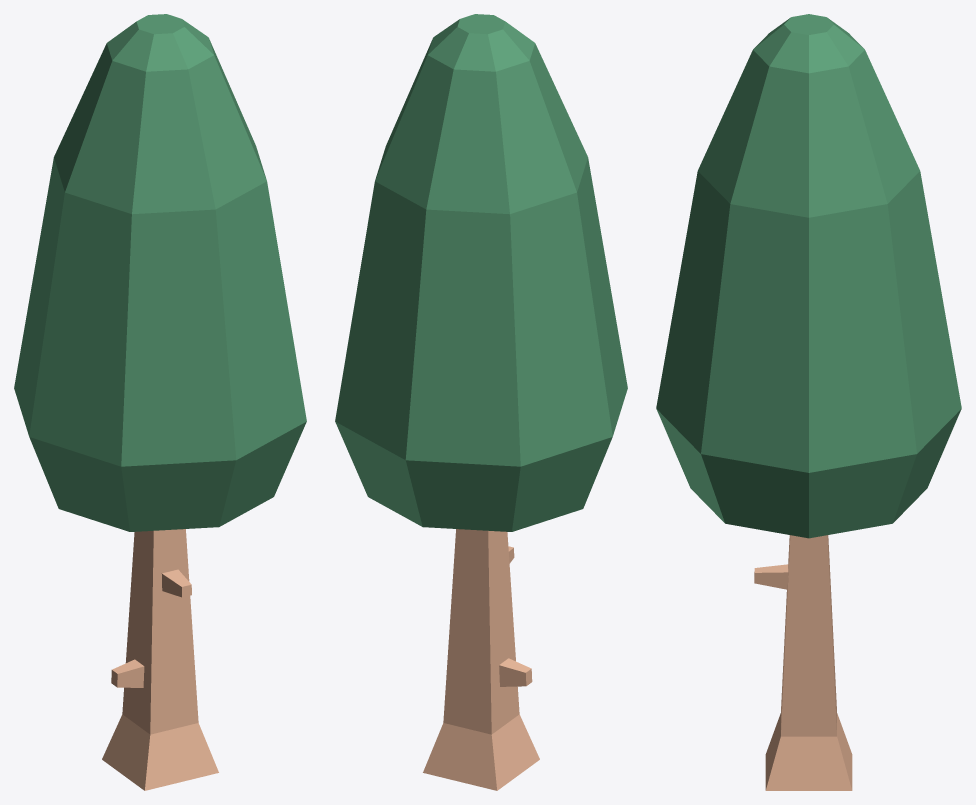
Rendered from thuja_1.glb.
3 renders of one model, left to right at view 1: azimuth 30°, elevation 25°; view 2: azimuth 150°, elevation 25°; view 3: azimuth 270°, elevation 25°, orthographic.
Visible parts, largest first — view 1: tree_cone; view 2: tree_cone; view 3: tree_cone.
Part boxes in pixels (<box>): tree_cone: <box>14,14,306,790</box>; tree_cone: <box>335,14,627,790</box>; tree_cone: <box>656,14,961,790</box>.
Bounding box in the file's own units: 0.7406 × 2 × 0.7406.
